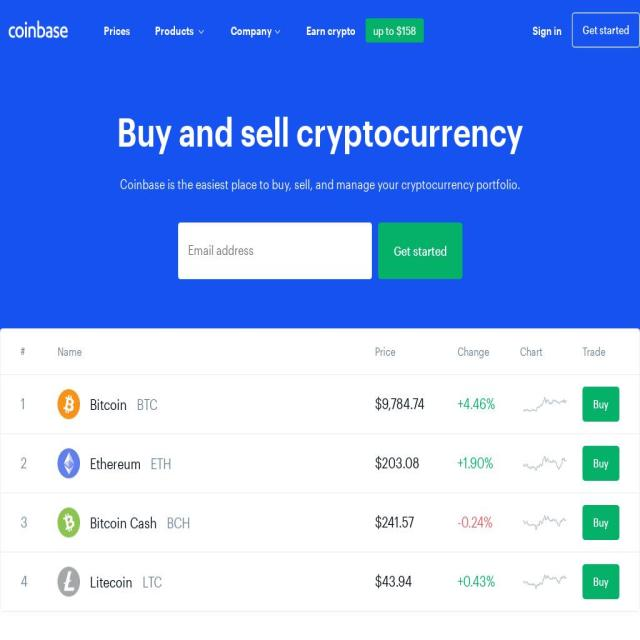button: (378, 223, 462, 279), (327, 631, 640, 640), (572, 12, 640, 48), (0, 19, 89, 41), (355, 18, 424, 42), (582, 386, 620, 422), (582, 446, 620, 481), (582, 505, 620, 540), (582, 564, 620, 599), (155, 24, 206, 38), (230, 24, 281, 38), (306, 24, 356, 38), (532, 24, 562, 38), (104, 24, 130, 38)
field: (177, 223, 372, 279)
heading: (120, 172, 520, 196), (90, 512, 157, 532), (458, 394, 518, 414), (458, 512, 518, 532), (458, 453, 518, 472), (458, 572, 518, 590), (90, 454, 141, 474), (375, 394, 424, 414), (90, 572, 132, 592), (375, 453, 419, 472), (375, 512, 414, 532), (90, 394, 127, 414), (375, 572, 412, 590), (167, 512, 190, 532), (137, 394, 157, 414), (151, 454, 171, 474), (142, 572, 162, 592), (20, 394, 28, 414), (20, 512, 28, 532), (20, 453, 28, 472), (20, 572, 28, 590)
image: (0, 328, 640, 474), (0, 20, 76, 38), (523, 454, 567, 474), (523, 572, 567, 592), (523, 395, 567, 414), (523, 514, 567, 532), (58, 389, 80, 419), (58, 448, 80, 478), (58, 508, 80, 538), (58, 566, 80, 596), (198, 30, 206, 35), (274, 30, 282, 35)
label: (458, 342, 490, 361), (57, 342, 82, 361), (582, 342, 606, 361), (520, 342, 542, 361), (375, 342, 396, 361), (21, 342, 25, 361)
text: (117, 108, 523, 154), (372, 21, 417, 39), (393, 244, 447, 258), (582, 23, 630, 37), (230, 24, 272, 38), (155, 24, 194, 38), (104, 23, 130, 38), (593, 397, 609, 411), (593, 457, 609, 470), (593, 516, 609, 529), (593, 575, 609, 588)
